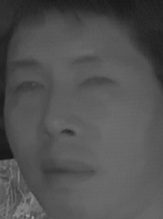eye: (77, 71, 114, 94), (10, 77, 45, 97)
mouth: (31, 152, 99, 192)
